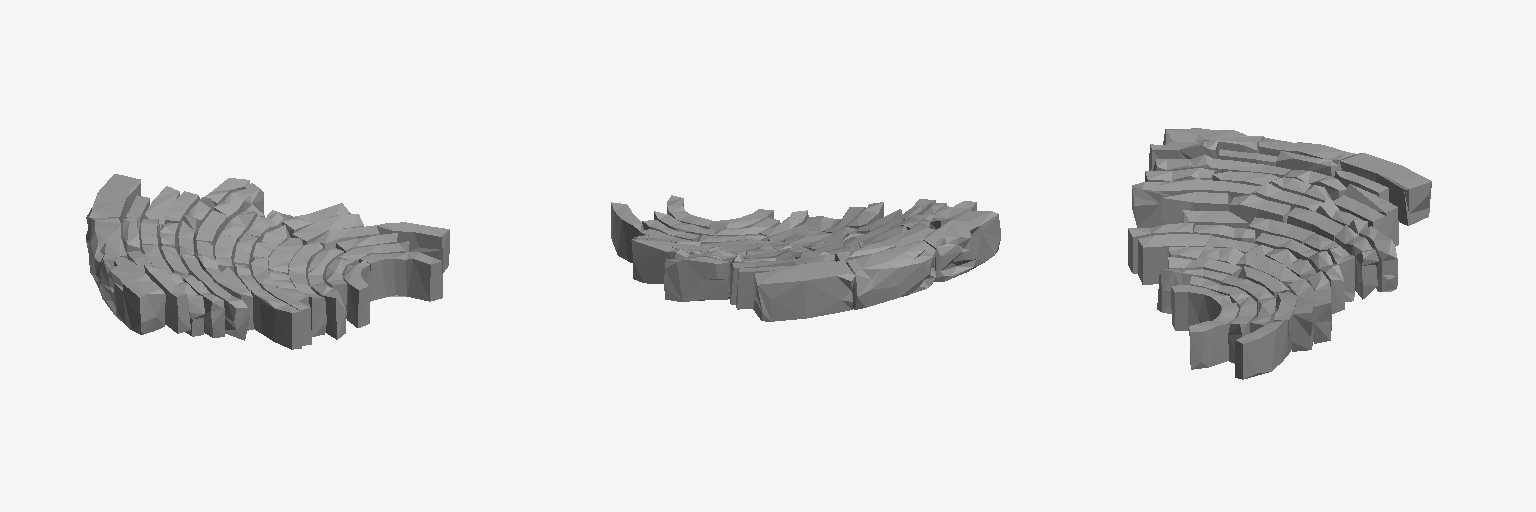
File: Sundisk05.obj
The picture shows the model from 3 angles: view 1: azimuth 30°, elevation 25°; view 2: azimuth 150°, elevation 25°; view 3: azimuth 270°, elevation 25°; orthographic projection.
Parts seen in each view (by area): view 1: Group27501.004_Group27501.009; view 2: Group27501.004_Group27501.009; view 3: Group27501.004_Group27501.009.
Boxes of the visible parts, x1,y1,x2,y2 form: Group27501.004_Group27501.009: [86, 174, 449, 349]; Group27501.004_Group27501.009: [611, 195, 1000, 321]; Group27501.004_Group27501.009: [1128, 128, 1431, 379].
Size of the model in its own units: 1200 by 313 by 900.